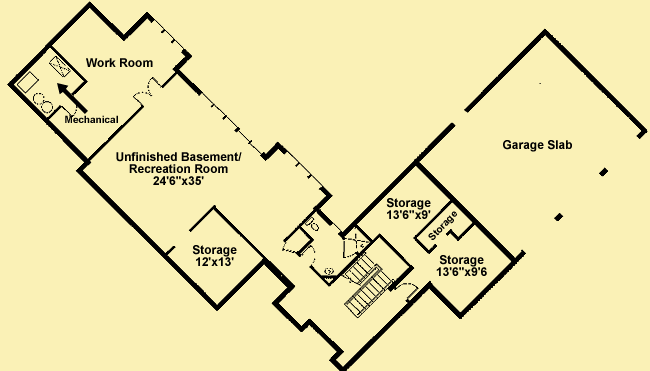door: (133, 75, 163, 108), (393, 280, 419, 301), (302, 244, 318, 266), (279, 241, 298, 255)
large sink: (303, 215, 322, 234)
stairs: (346, 252, 395, 318)
windows: (197, 91, 257, 147), (282, 148, 326, 193), (149, 16, 187, 56)
